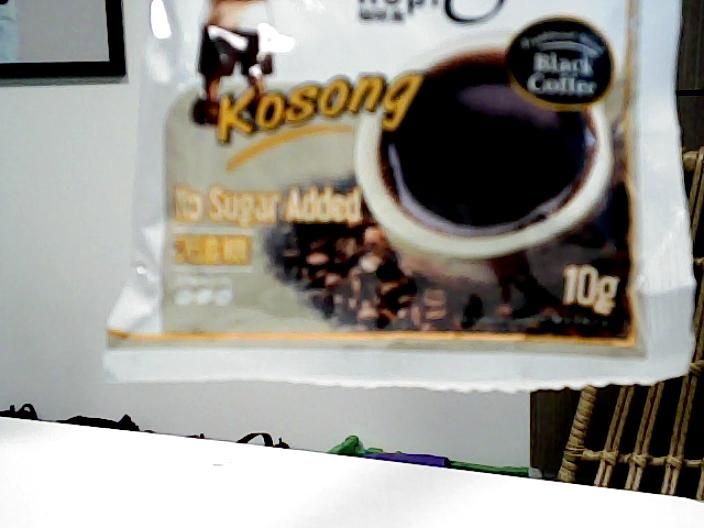Adult_Milk_0-99g_Halal_NonHealthy: (136, 1, 658, 374)
